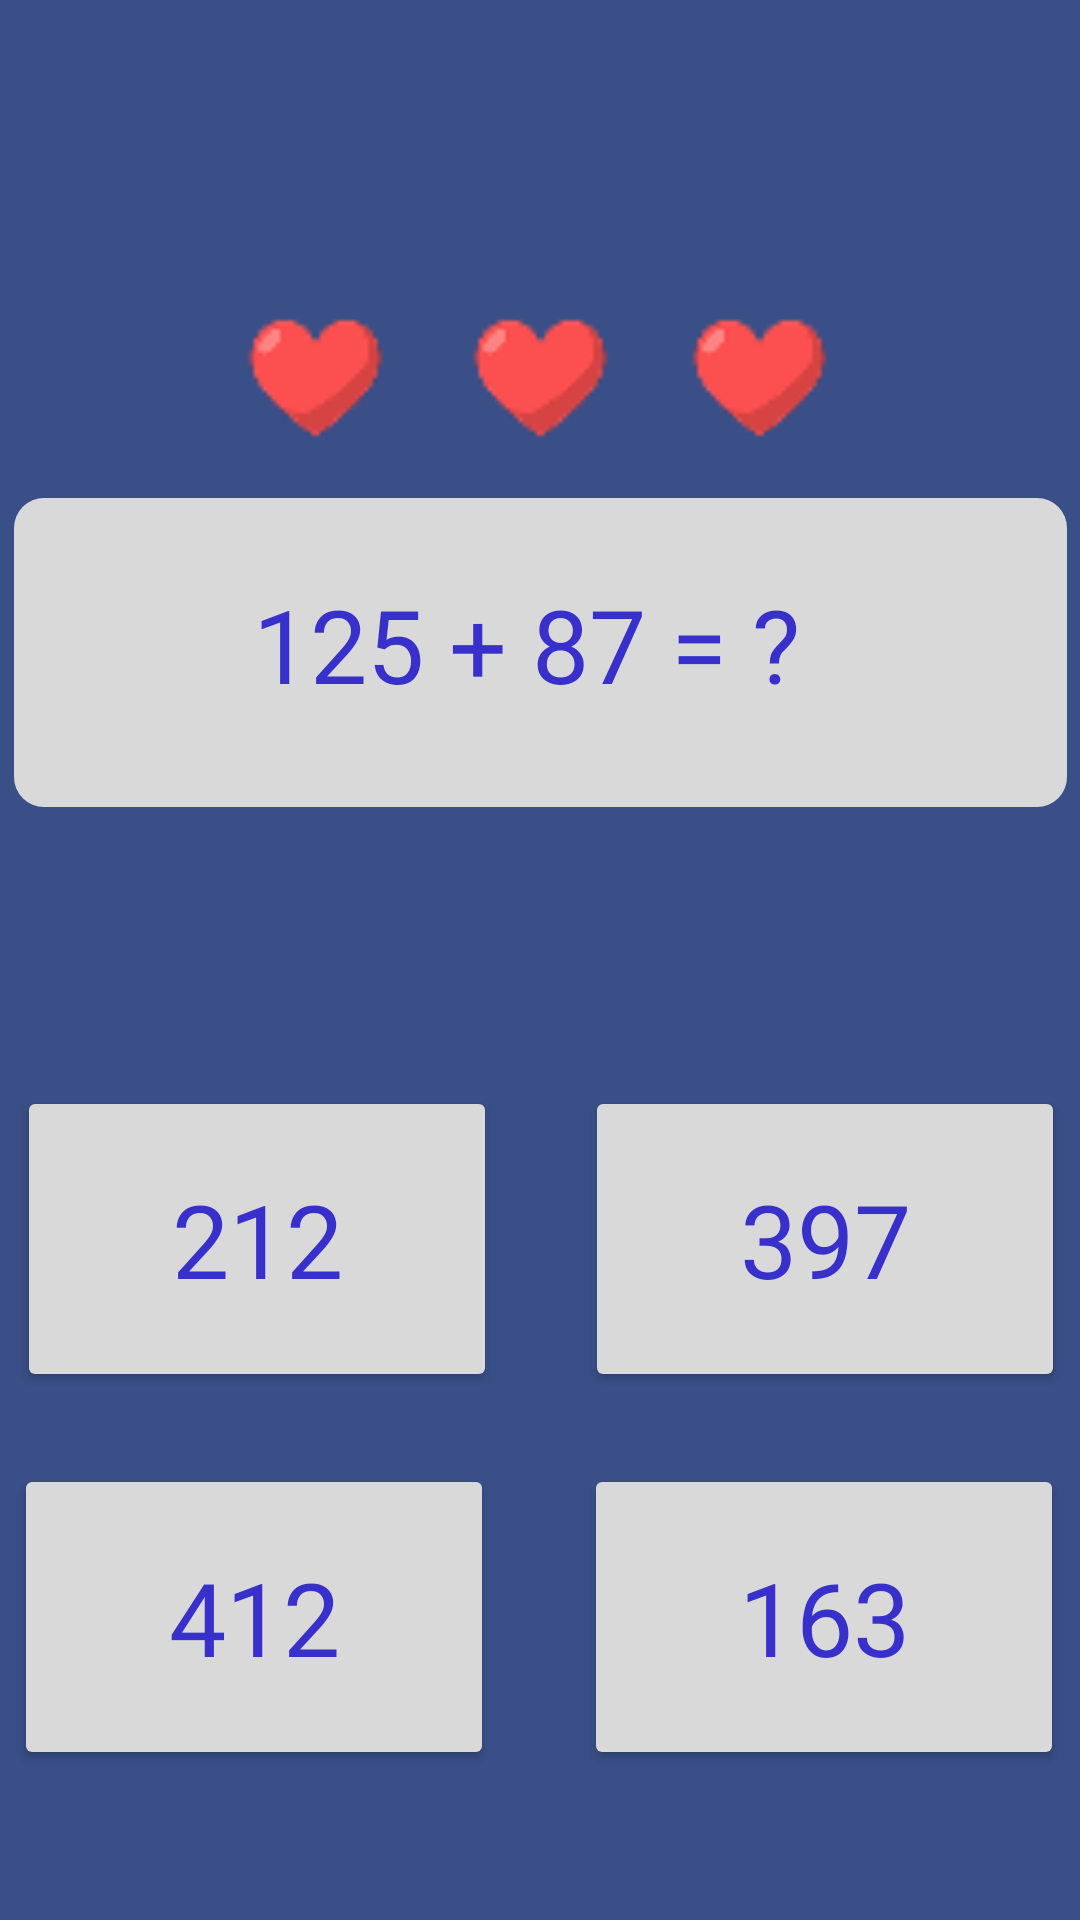

Screen size 1080*1920. Icon name, then its box in pixels as (x1, y1, x2, y2):
hati: (248, 319, 383, 437), (473, 319, 608, 437), (692, 319, 827, 437)
